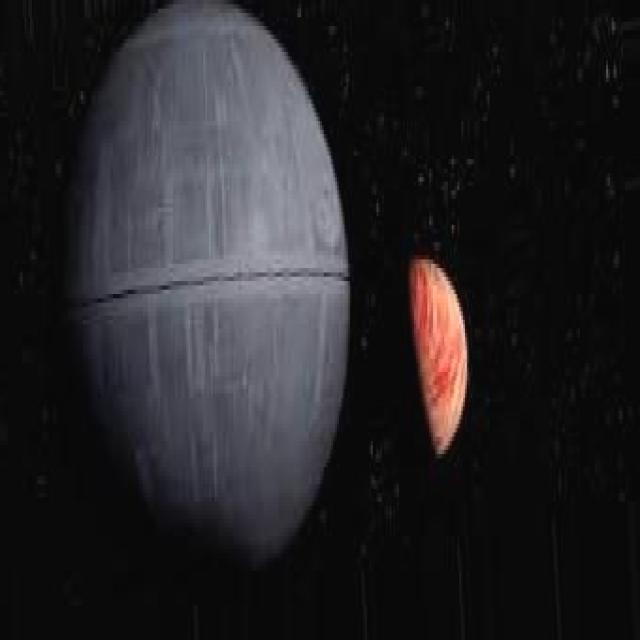deathstar: (70, 0, 352, 578)
